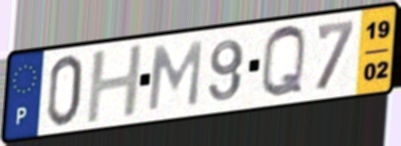0: (44, 52, 86, 129)
7: (314, 16, 357, 94)
9: (206, 37, 246, 103)
H: (84, 41, 146, 127)
M: (145, 38, 206, 114)
Q: (259, 23, 309, 102)
